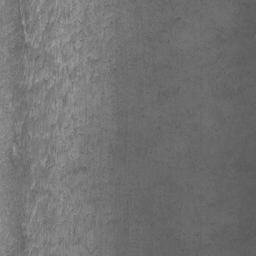Silk spot: (0, 0, 207, 256), (151, 234, 201, 252), (185, 125, 202, 173), (156, 116, 182, 137)
